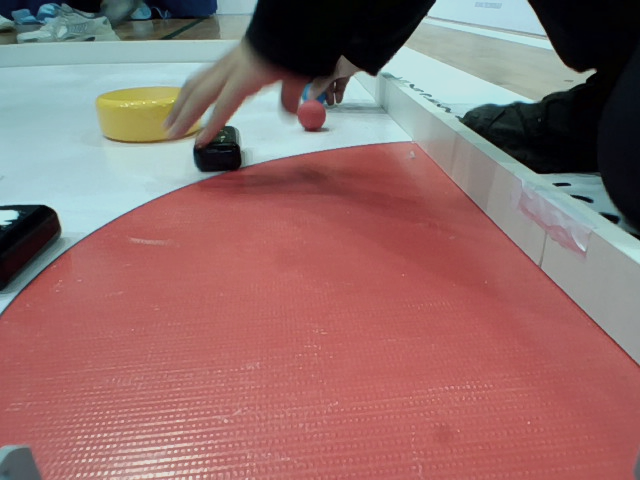black: (1, 202, 72, 308), (182, 118, 253, 191)
blue: (299, 80, 337, 107)
red: (290, 97, 340, 140)
yellow: (88, 84, 205, 146)
